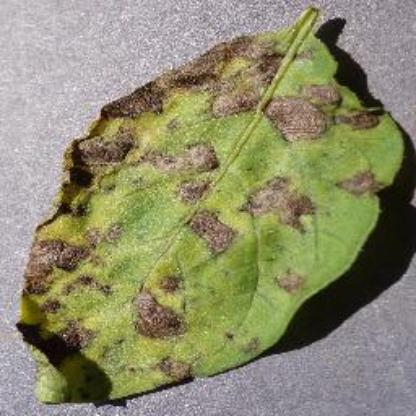Early-Blight: (15, 7, 408, 405)
